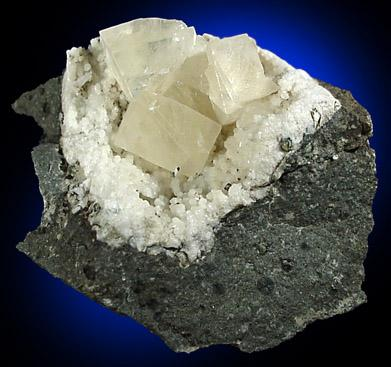calcite: (100, 18, 286, 192), (100, 18, 279, 176)
